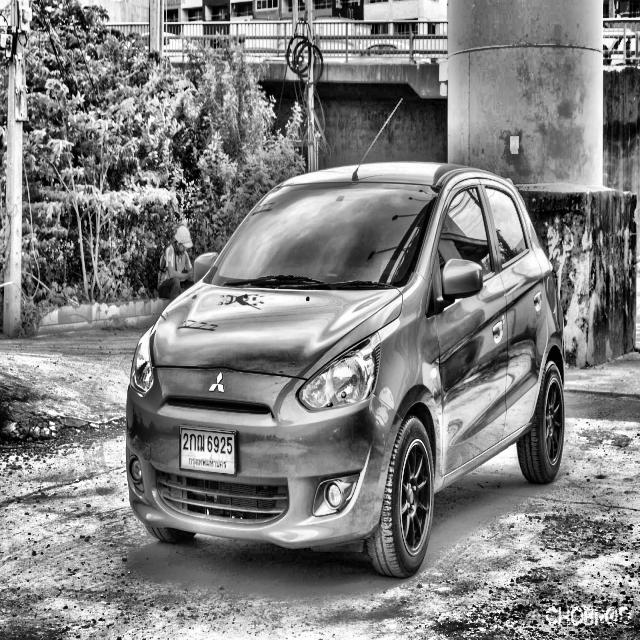license-plate: (178, 425, 240, 479)
